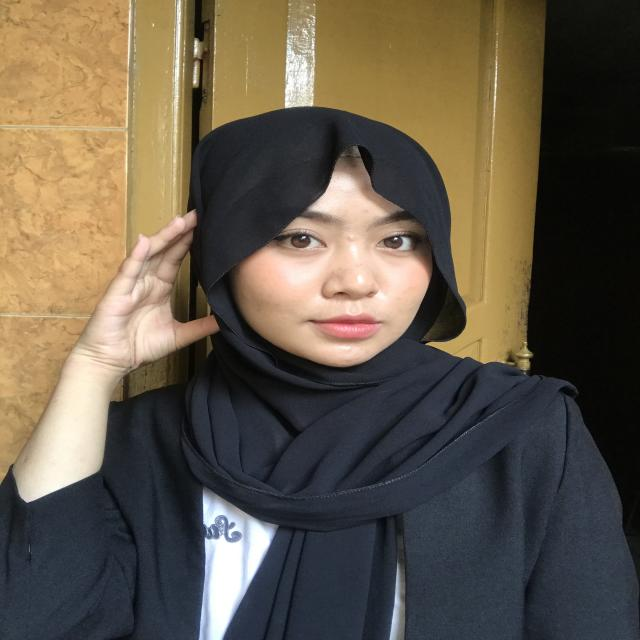mendengar: (83, 211, 218, 371)
